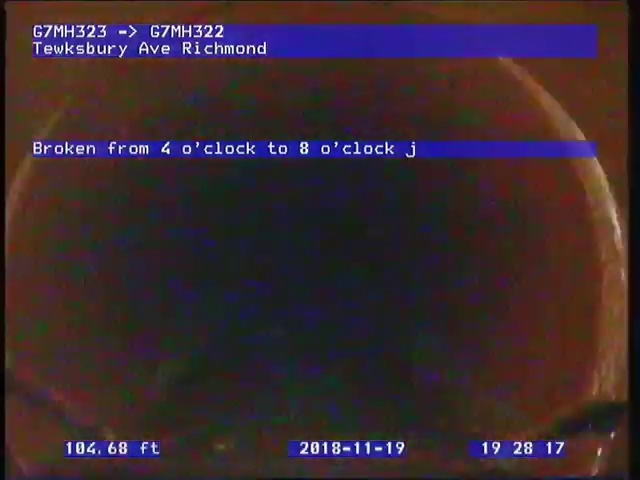crack: (2, 367, 137, 464), (480, 395, 629, 454)
